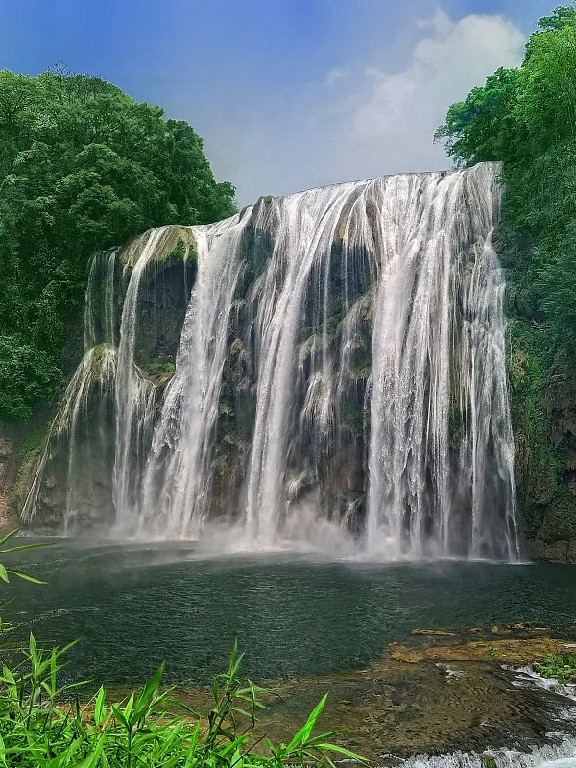Huangguoshu: (41, 164, 521, 560)
